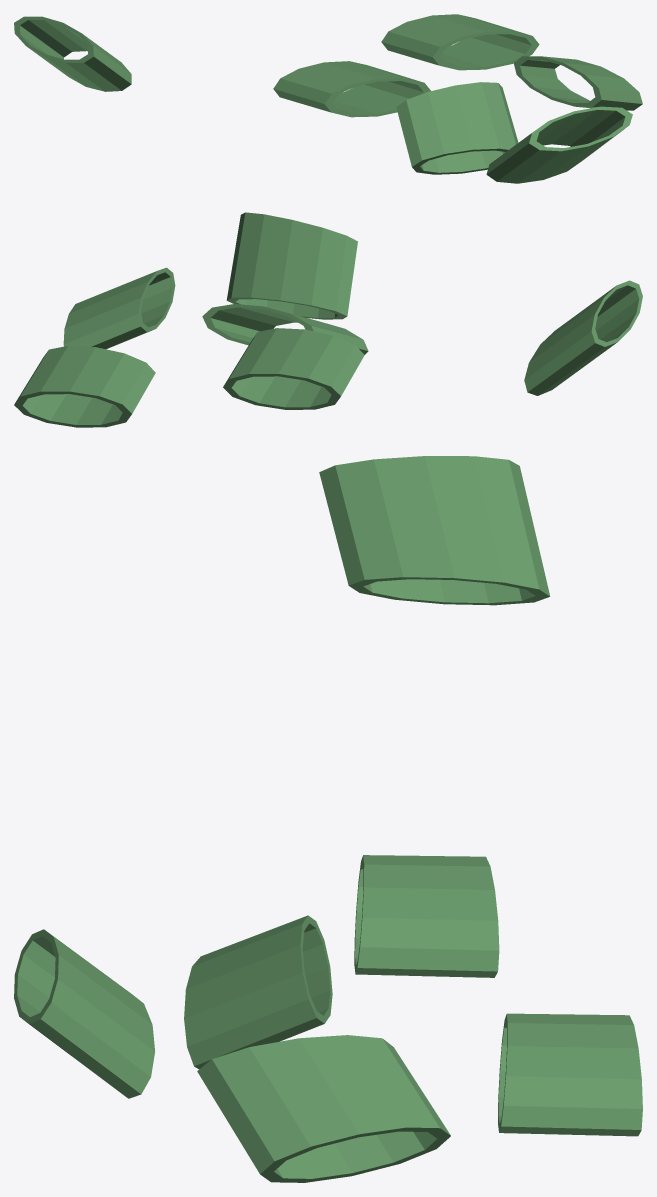
Rendered from Onionn.fbx.
3 views of the same model, one above another, from view 1: azimuth 30°, elevation 25°; view 2: azimuth 150°, elevation 25°; view 3: azimuth 270°, elevation 25° (orthographic). The views are drawn at different scales.
Visible parts, largest first — view 1: polySurface2133; view 2: polySurface2133; view 3: polySurface2133.
Boxes of the visible parts, x1,y1,x2,y2 form: polySurface2133: (14,14,642,183); polySurface2133: (14,212,642,427); polySurface2133: (14,456,642,1182).
Bounding box in the file's own units: 20.33 × 6.57 × 12.
